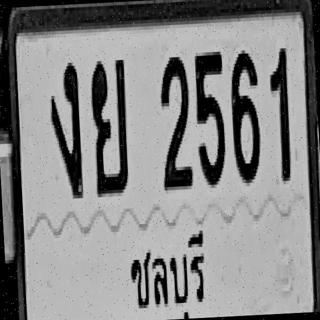A07: (48, 59, 83, 196)
A34: (88, 55, 131, 196)
N01: (268, 45, 293, 182)
N02: (157, 54, 193, 190)
N05: (193, 48, 228, 185)
N06: (229, 50, 262, 184)
P13: (124, 225, 216, 320)
